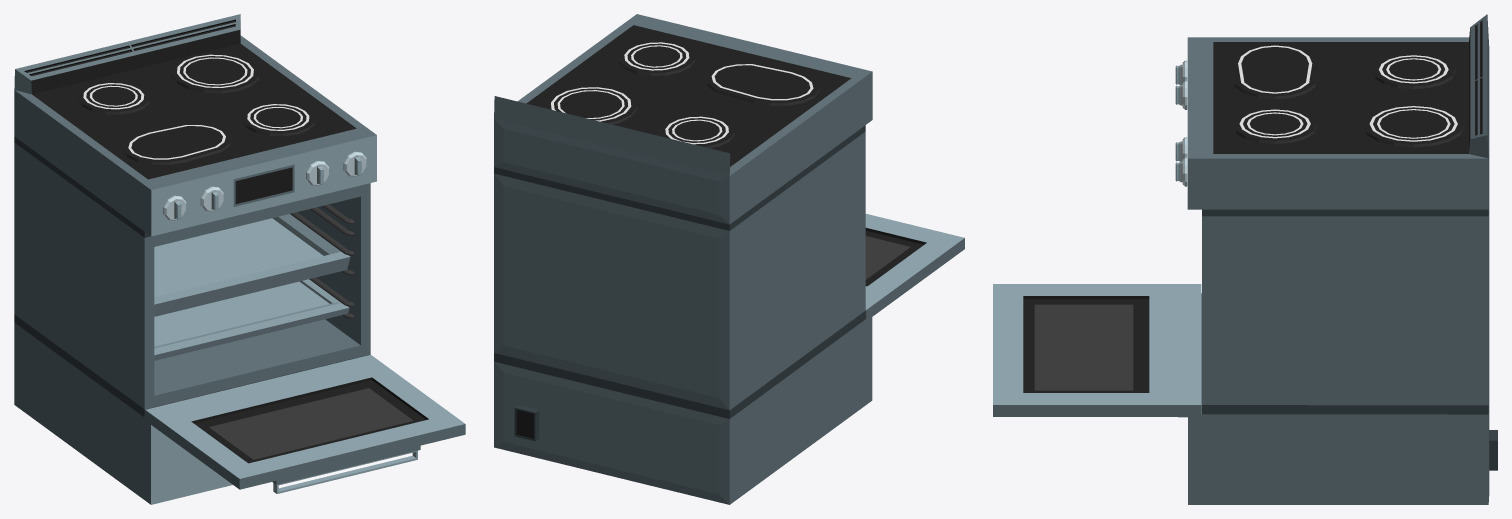
Rendered from Stove.glb.
3 views of the same model, side by side, from view 1: azimuth 30°, elevation 25°; view 2: azimuth 150°, elevation 25°; view 3: azimuth 270°, elevation 25° (orthographic). The views are drawn at different scales.
Parts seen in each view (by area): view 1: Stove, Stove-FrontDoor, Stove-Tray.001, Stove-Tray, Stove-Drawer; view 2: Stove, Stove-FrontDoor, Stove-Drawer; view 3: Stove, Stove-FrontDoor, Stove-Drawer.
Part boxes in pixels (x1,y1,x2,y2): Stove: (14, 14, 376, 499); Stove-FrontDoor: (145, 354, 465, 493); Stove-Tray.001: (154, 214, 350, 316); Stove-Tray: (154, 279, 349, 360); Stove-Drawer: (144, 418, 232, 504); Stove: (494, 14, 872, 504); Stove-FrontDoor: (865, 214, 964, 318); Stove-Drawer: (865, 317, 872, 404); Stove: (1187, 14, 1497, 504); Stove-FrontDoor: (993, 284, 1201, 416); Stove-Drawer: (1178, 293, 1201, 504).
Bounding box in the file's own units: 0.6 × 0.8541 × 1.06.
Materials: 1 (1 with a texture image).
